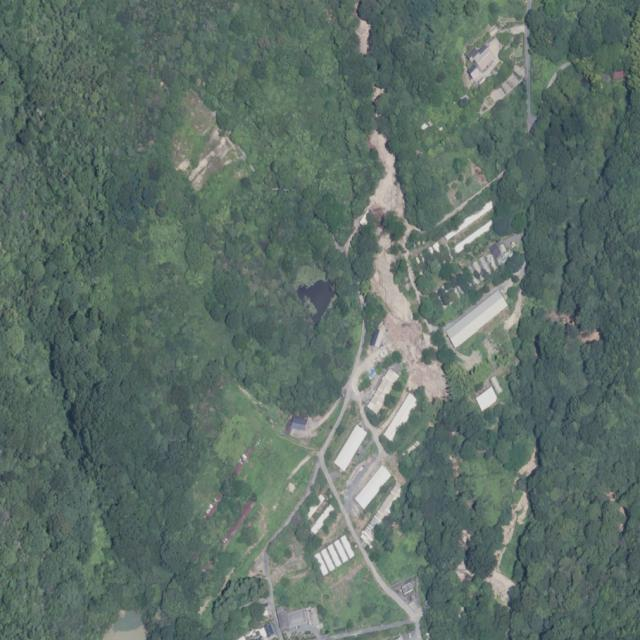landslide: (372, 248, 446, 401), (369, 130, 405, 217)
